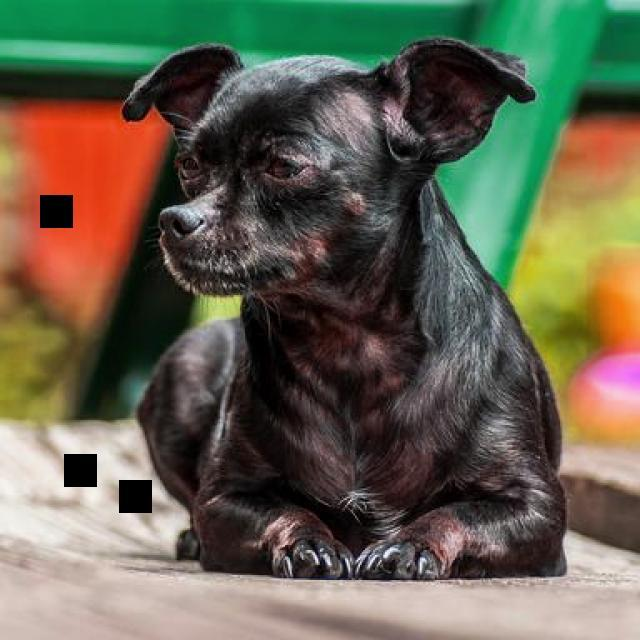adult_dog: (118, 32, 570, 583)
